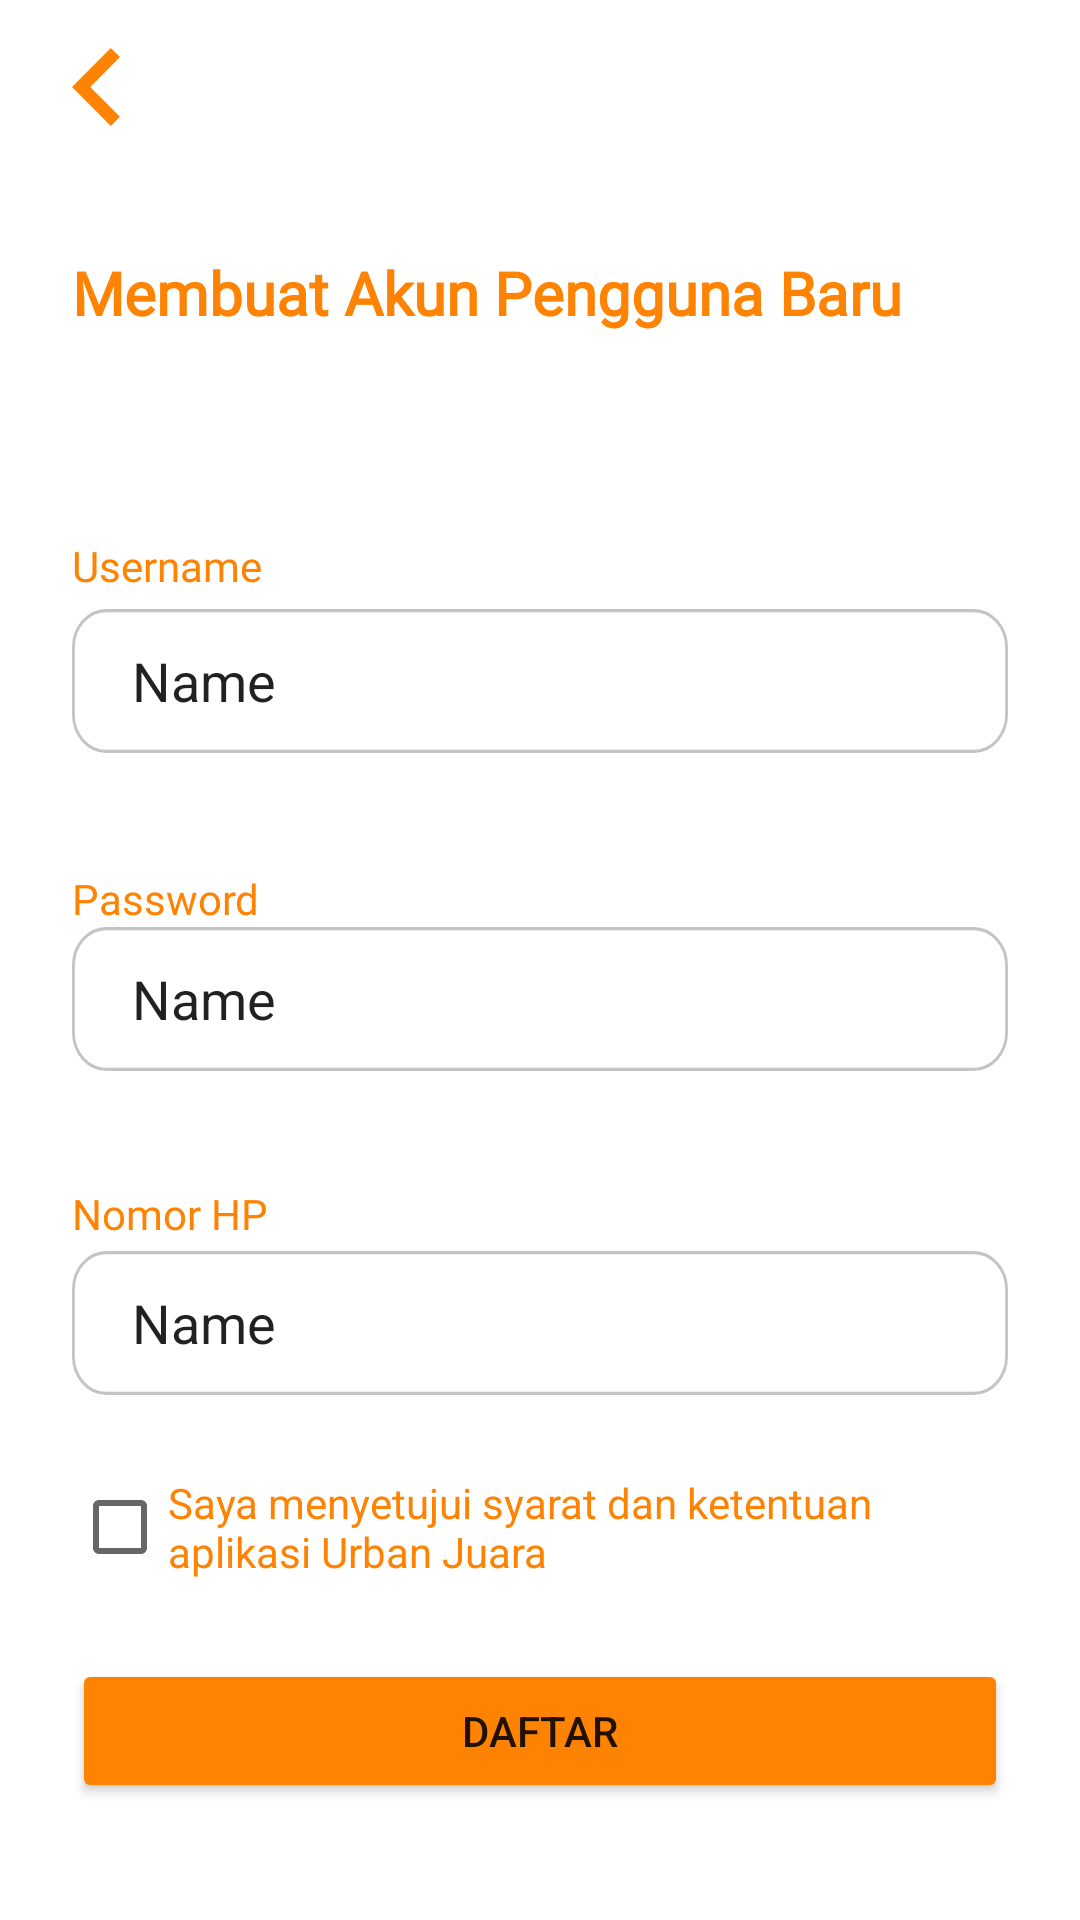

Icons on this 1080px×1920px Android screen, each with its box as (x1, y1, x2, y2):
back: (72, 48, 120, 126)
